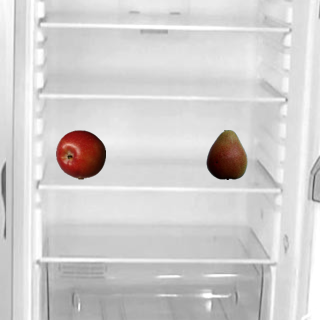Apple Braeburn: (55, 129, 105, 179)
Pear Forelle: (201, 129, 251, 179)
